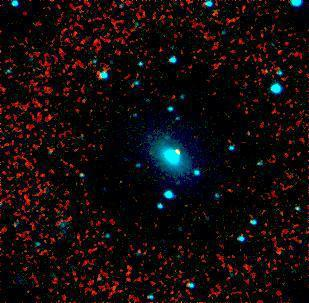star: (164, 139, 194, 169)
